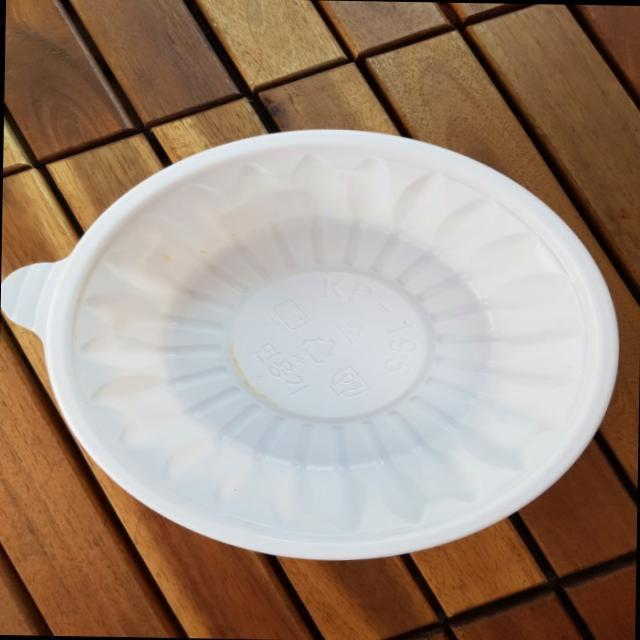disposable: (16, 129, 635, 571)
